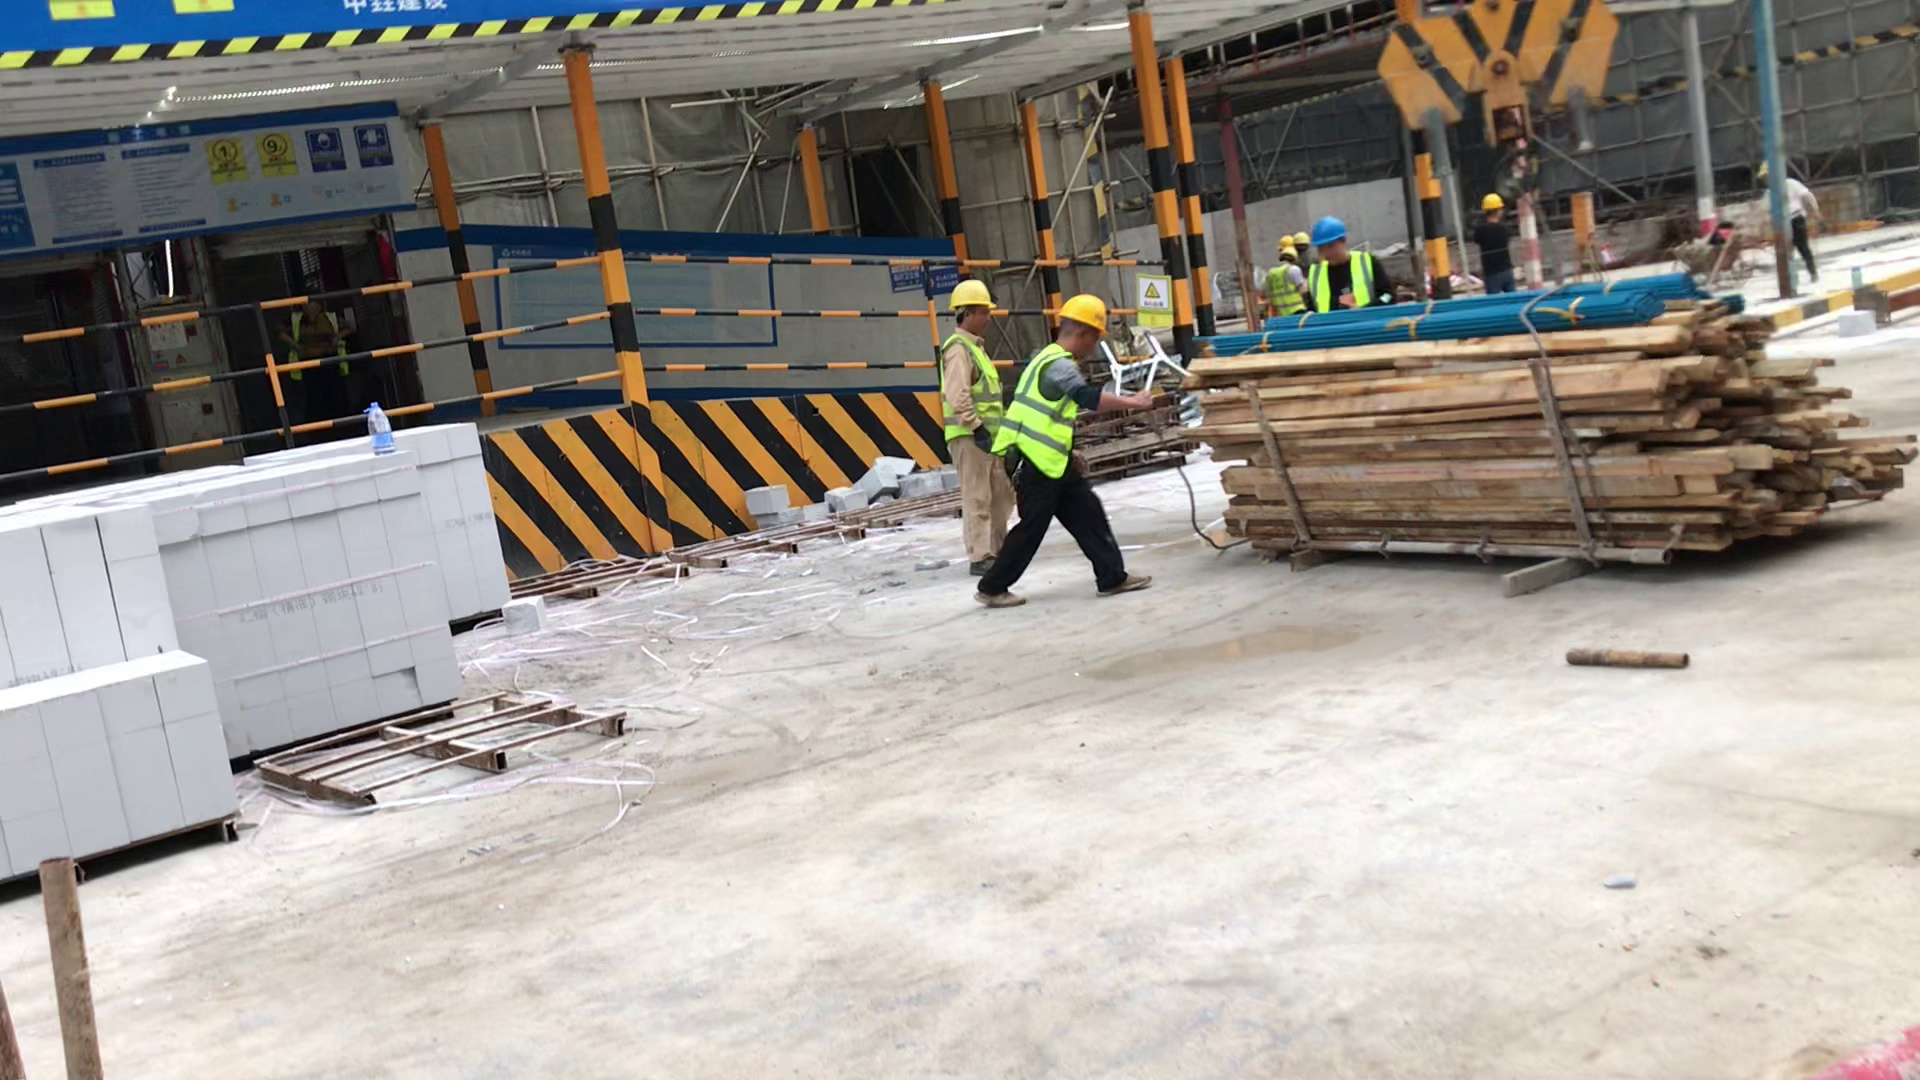brick: (40, 458, 456, 745), (1, 517, 243, 880)
ebox: (1571, 191, 1600, 260)
handcart: (1679, 239, 1750, 285)
helmet: (1058, 294, 1107, 336), (949, 280, 996, 311), (1313, 215, 1348, 247), (1481, 193, 1503, 209), (1292, 232, 1310, 246), (1278, 247, 1297, 259), (1279, 235, 1294, 246)
hook: (1378, 3, 1621, 192)
person: (973, 296, 1153, 607), (938, 280, 1007, 577), (1755, 156, 1825, 293), (1313, 218, 1398, 316), (1267, 253, 1311, 319)
slogan: (194, 134, 408, 207), (1140, 273, 1177, 339)
vest: (997, 347, 1088, 473), (942, 335, 1005, 439), (1317, 254, 1375, 312), (1266, 265, 1305, 314)
wood: (1198, 345, 1890, 541)
